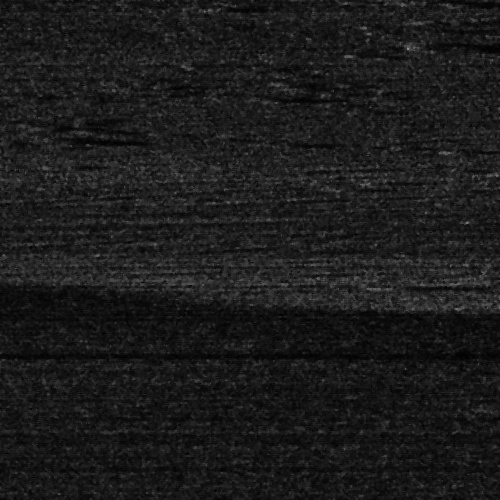object: (402, 41, 455, 50), (343, 283, 406, 286)
shadow: (429, 41, 500, 50), (375, 283, 477, 286)
